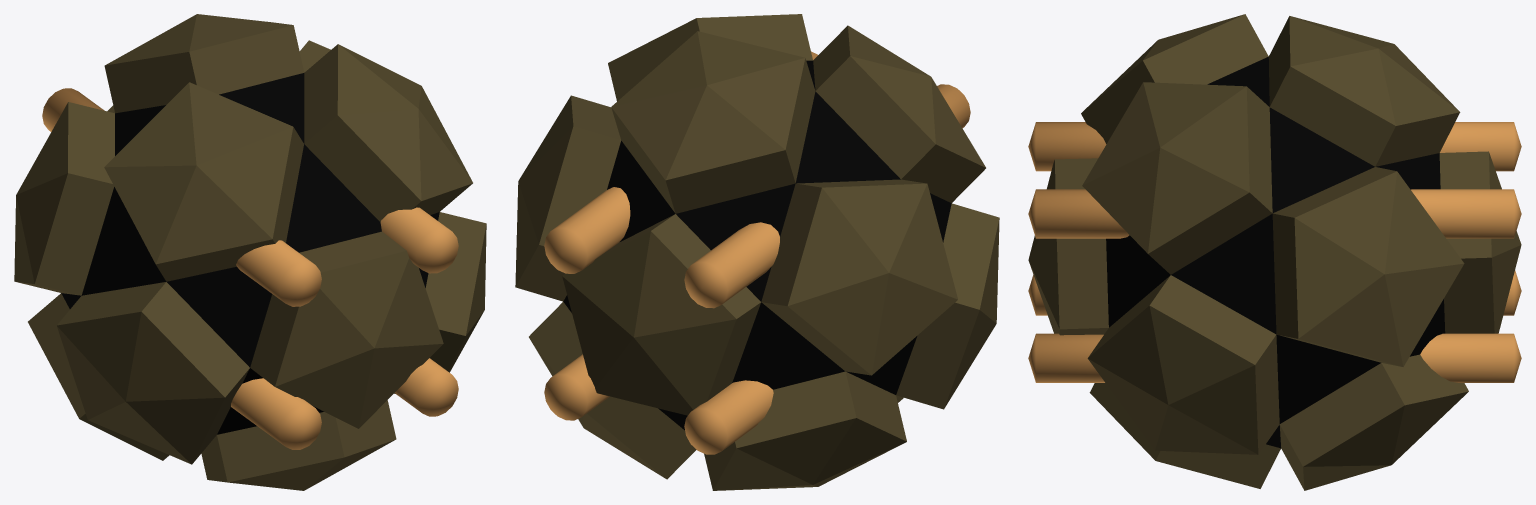
The model's file is BlackHole.Sma.01.fbx.
3 renders of one model, left to right at view 1: azimuth 30°, elevation 25°; view 2: azimuth 150°, elevation 25°; view 3: azimuth 270°, elevation 25°, orthographic. The views are drawn at different scales.
Visible parts, largest first — view 1: B.BH.Sma.01; view 2: B.BH.Sma.01; view 3: B.BH.Sma.01.
Part boxes in pixels (x1,y1,x2,y2): B.BH.Sma.01: [14, 14, 486, 490]; B.BH.Sma.01: [515, 14, 999, 490]; B.BH.Sma.01: [1028, 14, 1521, 490].
Size of the model in its own units: 91.47 by 88.9 by 94.19.
